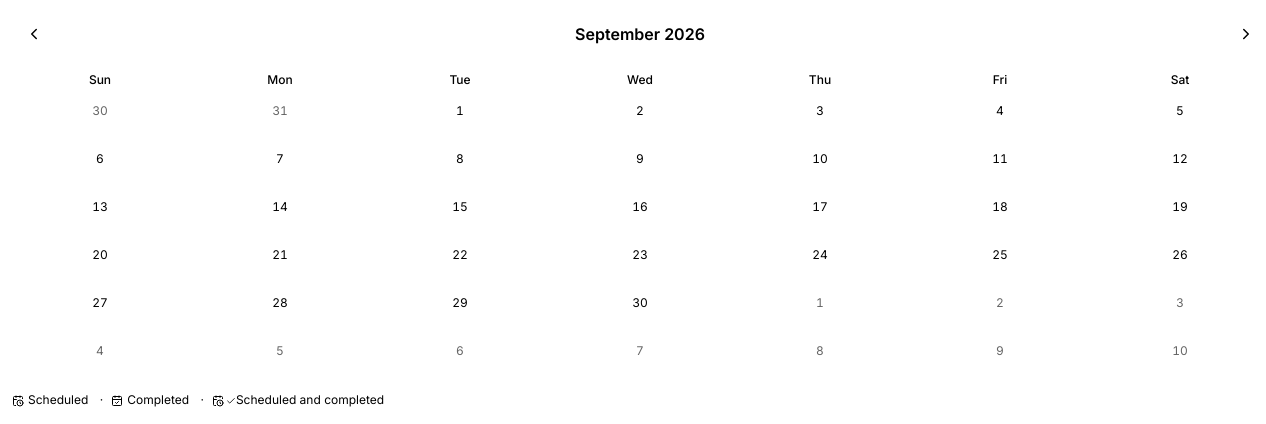
Test: workout analytics evidence surfaces › supports month navigation with labelled controls
Click the button named "previous month".
click(34, 34)  # box [12, 12, 56, 56]
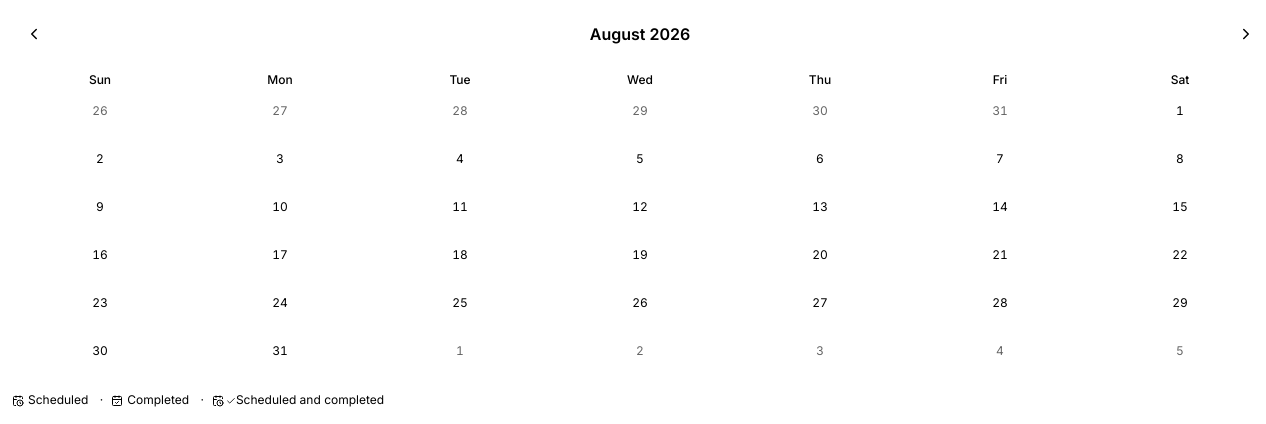
expect the heading "August 2026" is shown: met, box [590, 22, 690, 46]
